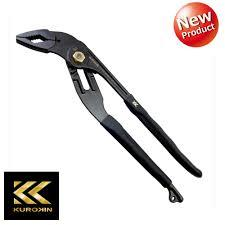pliers: (15, 28, 202, 202)
